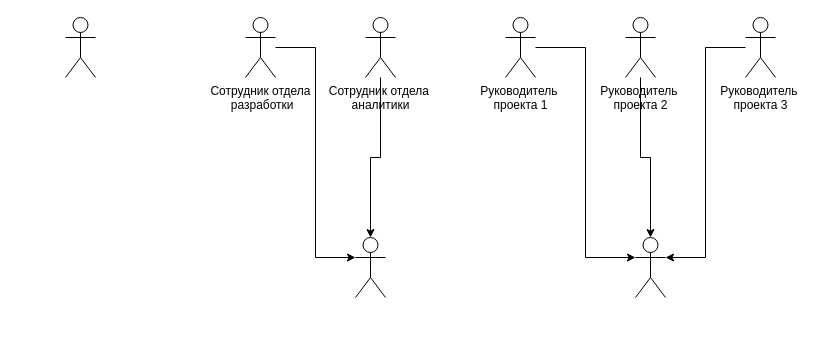
The diagram is 818 pixels wide and 351 high, and some of its shapes have lost their labels. Each missing label, with the centre of its shape:
"Директор организации" goes at pixel 80 47.
"Руководитель проекта" goes at pixel 650 267.
"Сотрудник отдела" goes at pixel 370 267.
